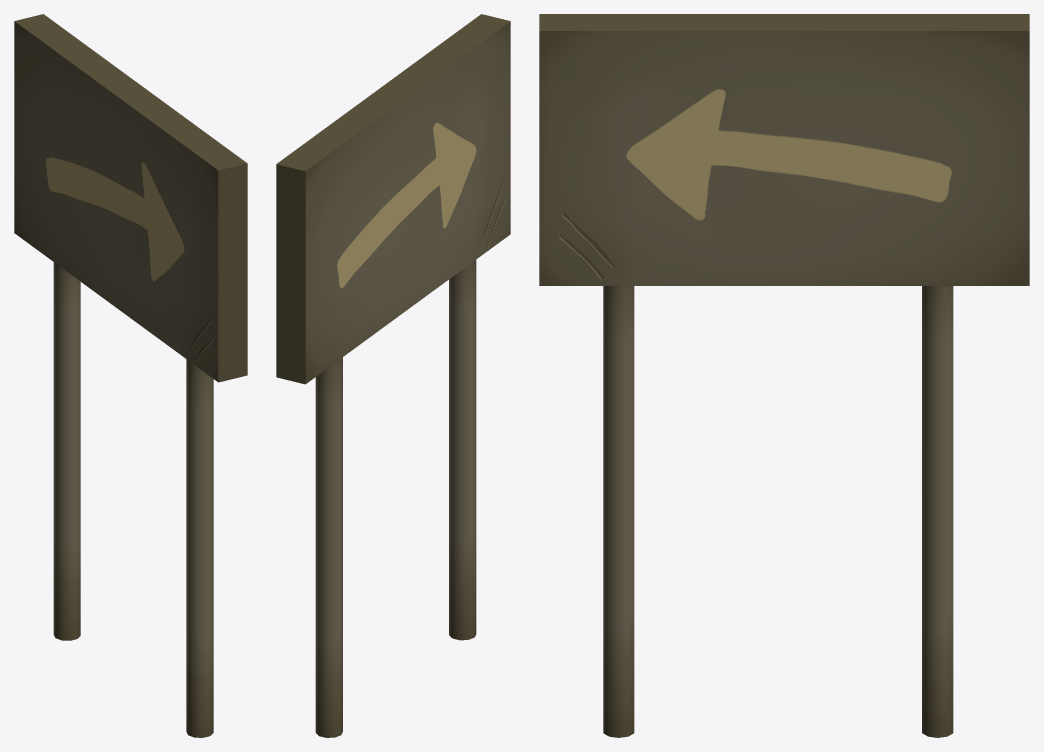
The model's file is bord.fbx.
3 renders of one model, left to right at view 1: azimuth 30°, elevation 25°; view 2: azimuth 150°, elevation 25°; view 3: azimuth 270°, elevation 25°, orthographic. The views are drawn at different scales.
Parts seen in each view (by area): view 1: pCube1, pCylinder1, pCylinder2; view 2: pCube1, pCylinder2, pCylinder1; view 3: pCube1, pCylinder1, pCylinder2.
Boxes of the visible parts, x1,y1,x2,y2 form: pCube1: [14, 14, 247, 382]; pCylinder1: [53, 262, 80, 640]; pCylinder2: [186, 359, 213, 737]; pCube1: [276, 14, 510, 384]; pCylinder2: [449, 260, 476, 640]; pCylinder1: [315, 357, 342, 737]; pCube1: [539, 14, 1029, 285]; pCylinder1: [922, 286, 953, 737]; pCylinder2: [603, 286, 634, 737].
Bounding box in the file's own units: 0.5465 × 10.57 × 6.63.
1 material, 1 textured.
